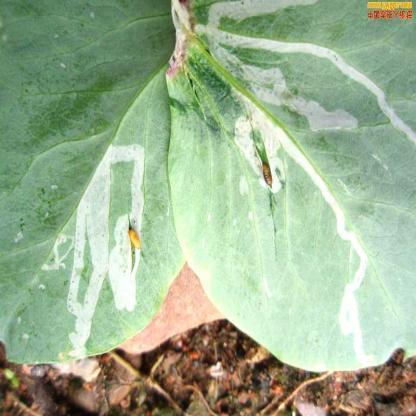whorl-maggot: (123, 219, 147, 254), (260, 156, 276, 194)
